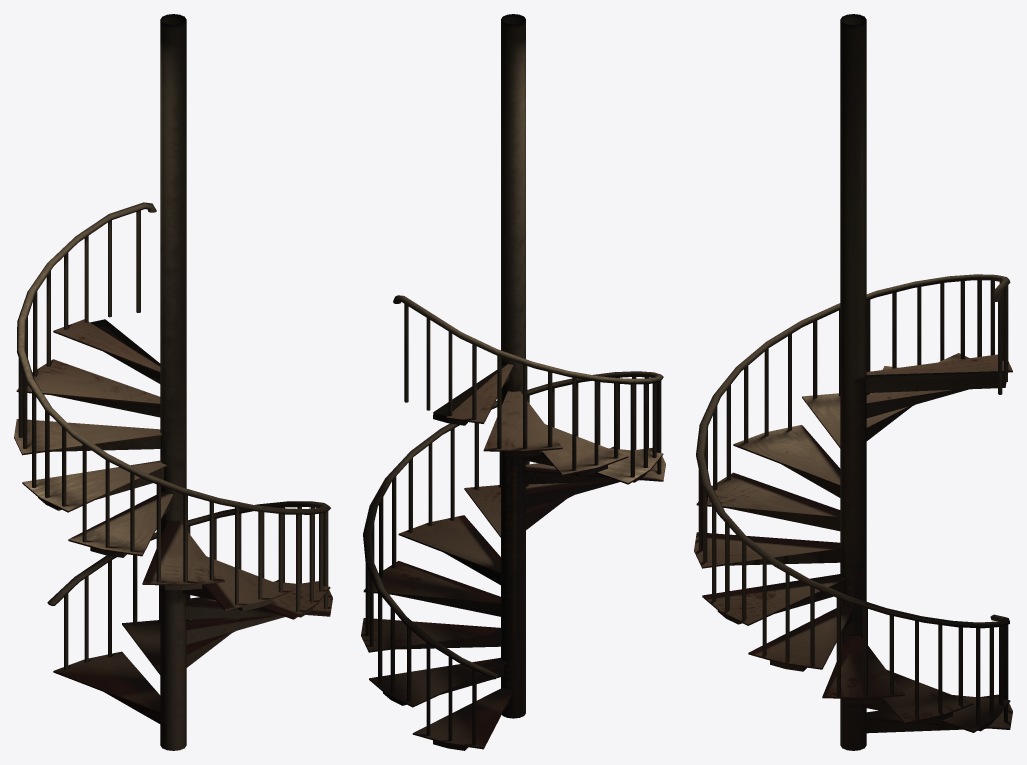
Rendered from spiralstaircase2.obj.
The picture shows the model from 3 angles, left to right: view 1: azimuth 30°, elevation 25°; view 2: azimuth 150°, elevation 25°; view 3: azimuth 270°, elevation 25°; orthographic projection. The views are drawn at different scales.
Visible parts, largest first — view 1: spiralstaircase3 group5; view 2: spiralstaircase3 group5; view 3: spiralstaircase3 group5.
Part boxes in pixels (x1,y1,x2,y2): spiralstaircase3 group5: (14, 14, 332, 750); spiralstaircase3 group5: (361, 14, 665, 750); spiralstaircase3 group5: (694, 14, 1012, 750).
Bounding box in the file's own units: 2.54 × 6.39 × 2.54.
Materials: 1 (1 with a texture image).
